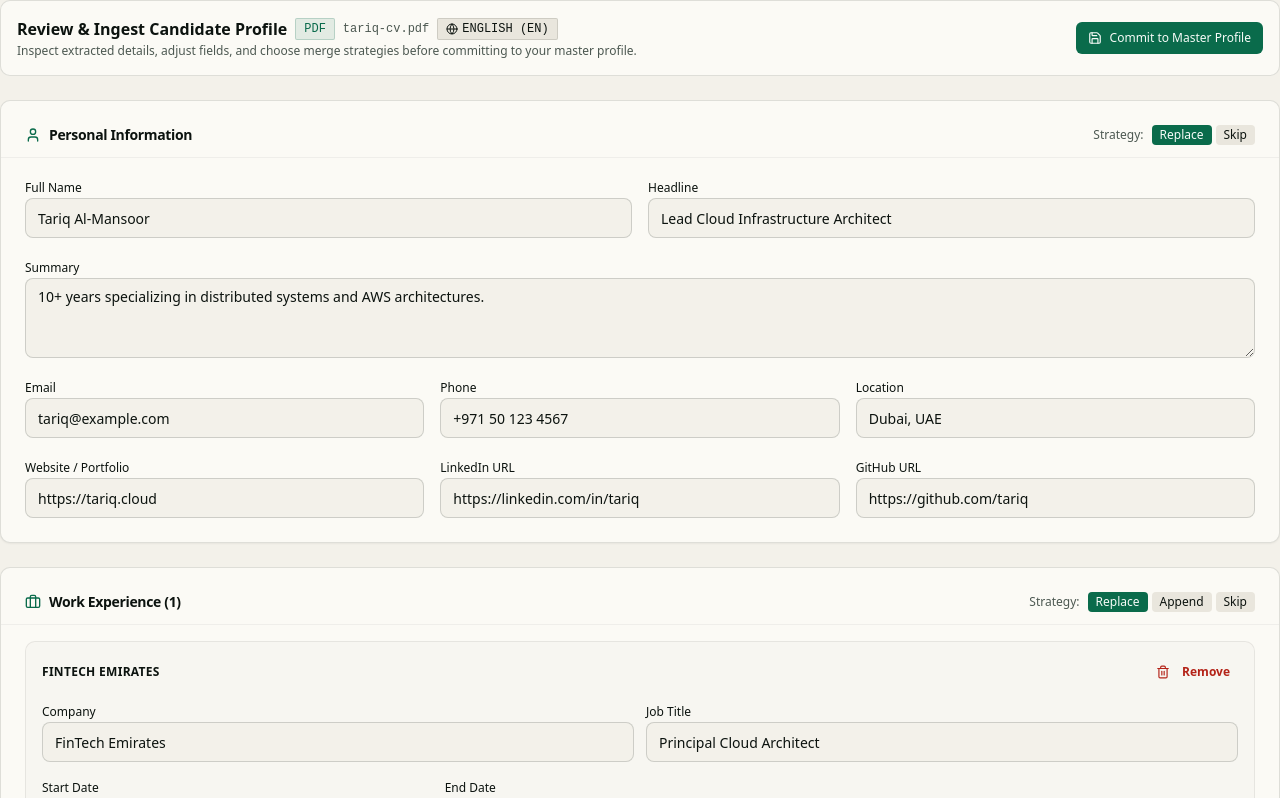
Test: Resume Review Workbench (AC-4, AC-5) › allows inline editing of fields and skill chips (AC-4)
Replace the text in the field with test id "input-fullName" with "Tariq Al-Mansoor (Updated)" at (328, 218), box [25, 198, 632, 238]
(page scrolled)
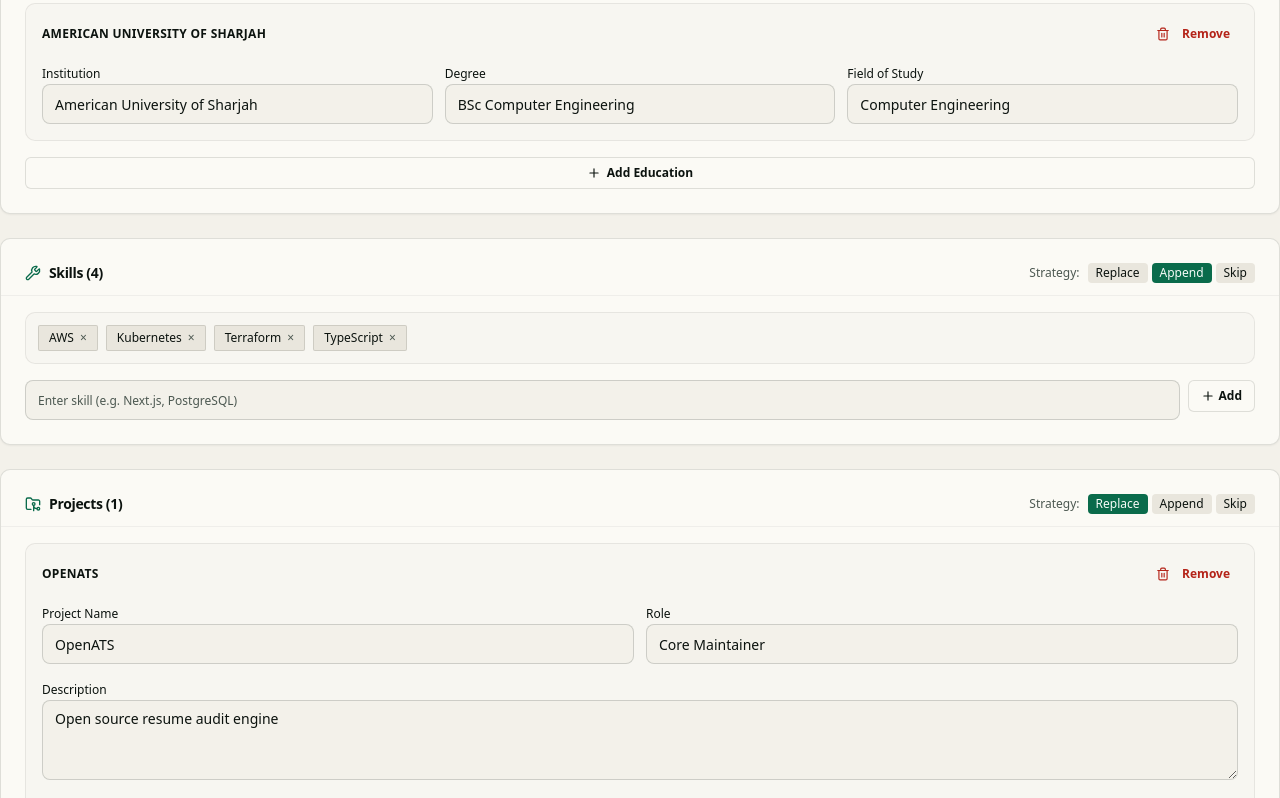
Note: Add a new skill chip
Type "PostgreSQL" into the field with test id "new-skill-input".
click(602, 400); type("PostgreSQL")  # box [25, 380, 1180, 420]
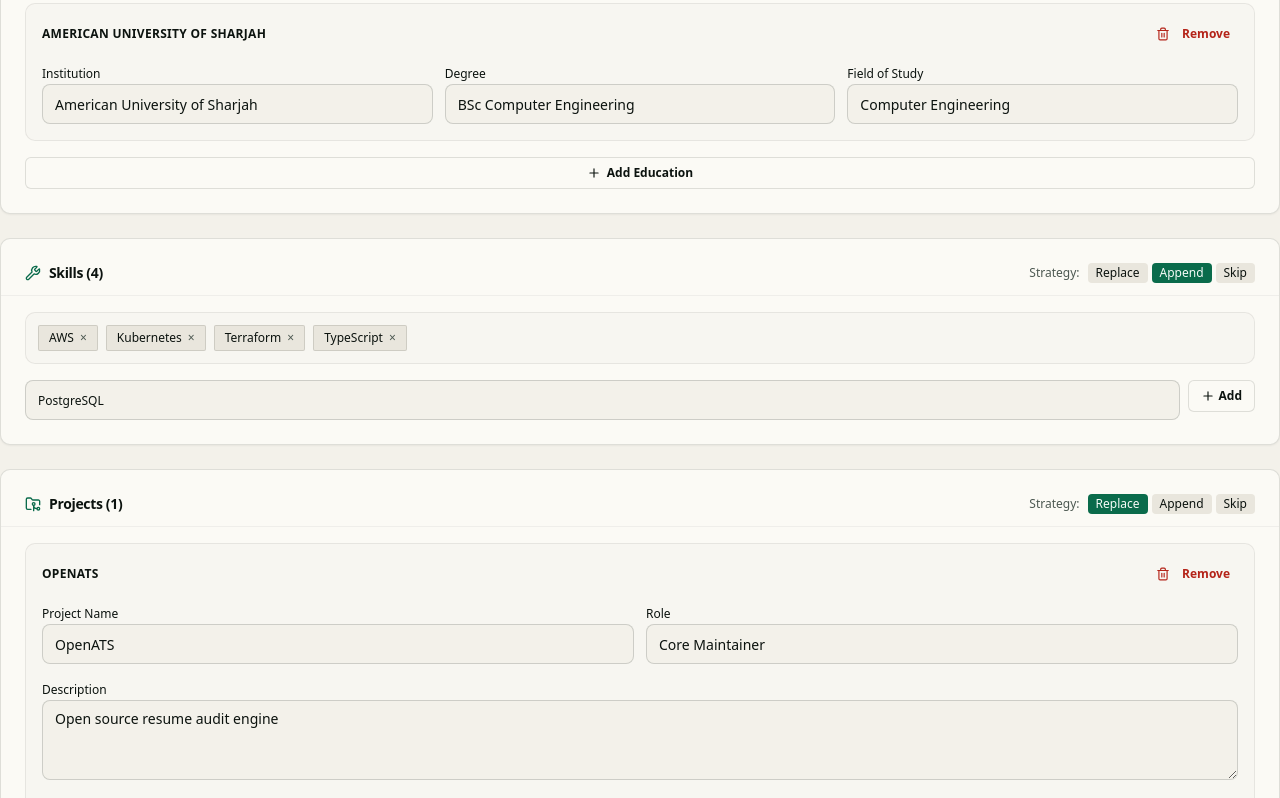
Click the button with test id "add-skill-button".
click(1221, 396)  # box [1188, 380, 1255, 412]
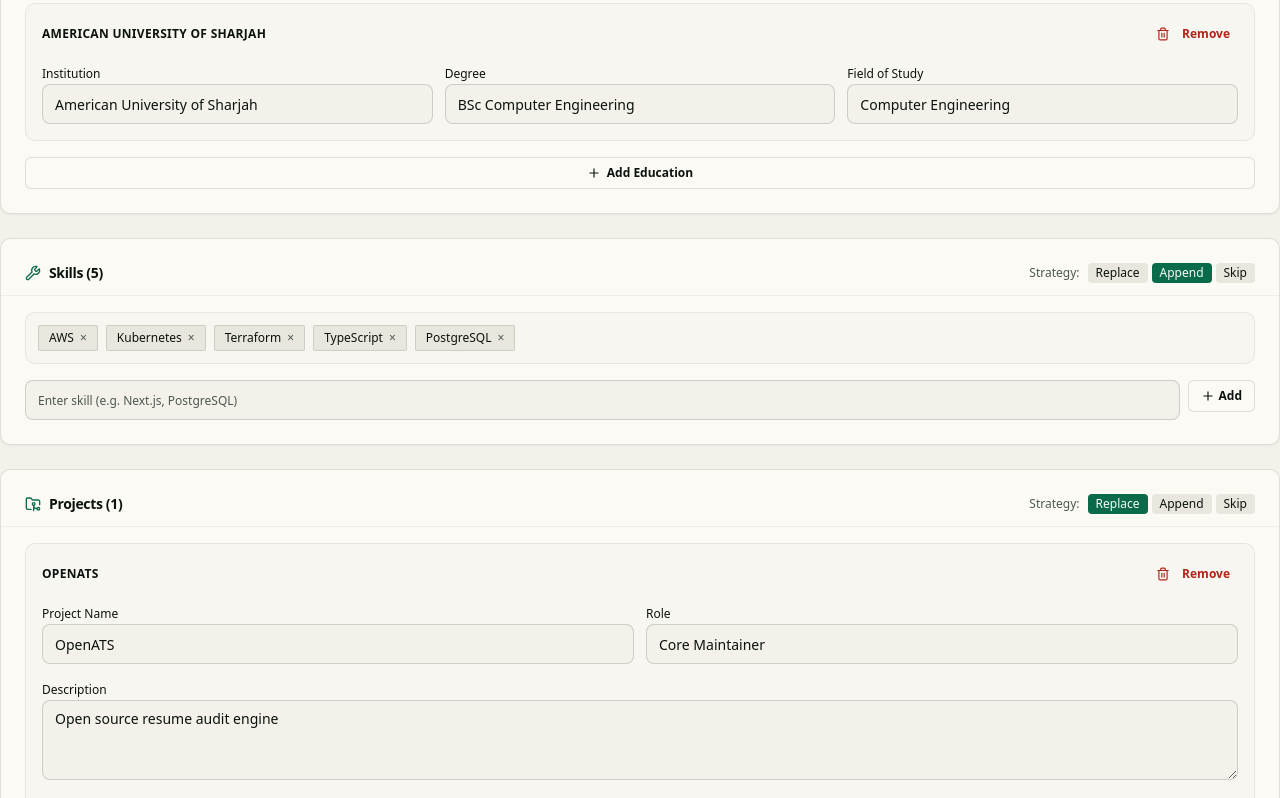
Expected: the text "PostgreSQL" is shown, [426, 330, 492, 346]
Note: Remove a skill chip
Click the button with test id "remove-skill-btn-0".
click(83, 338)  # box [80, 330, 87, 346]
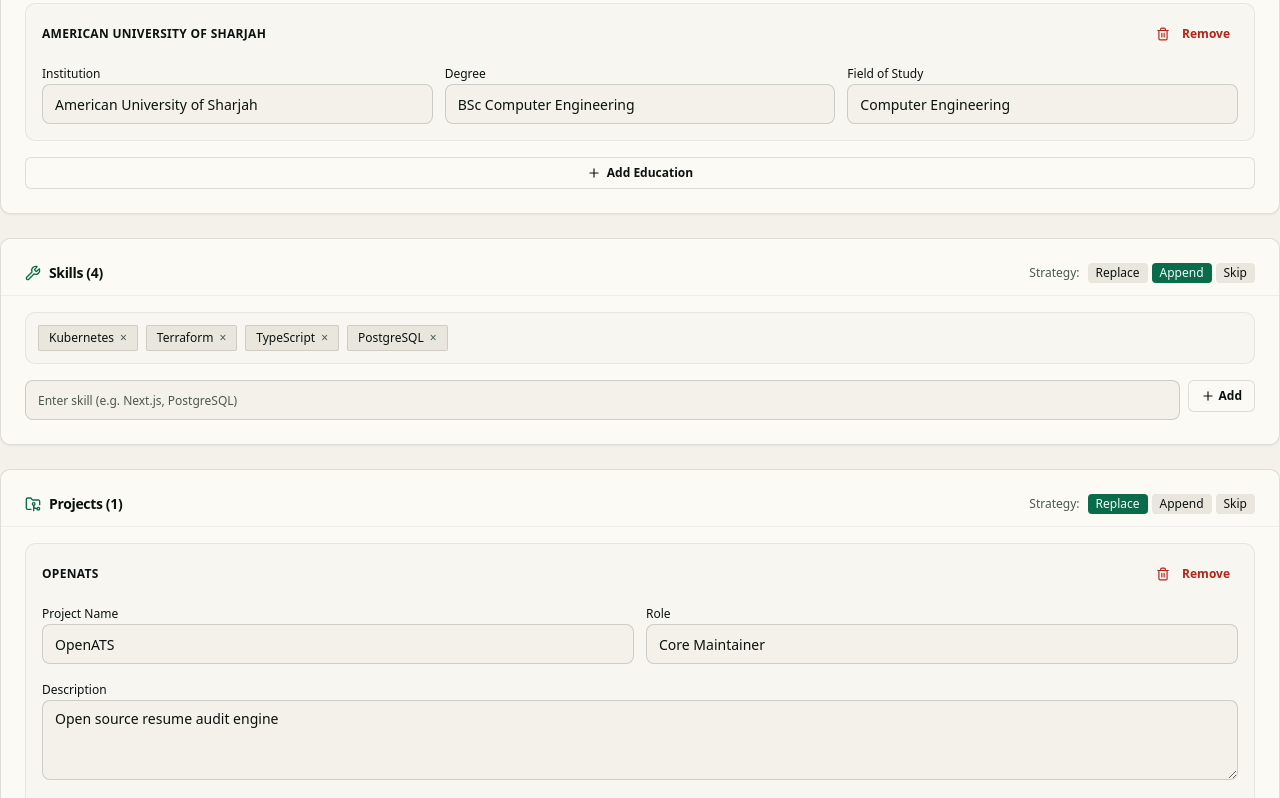
Expected: the text "AWS" is gone
